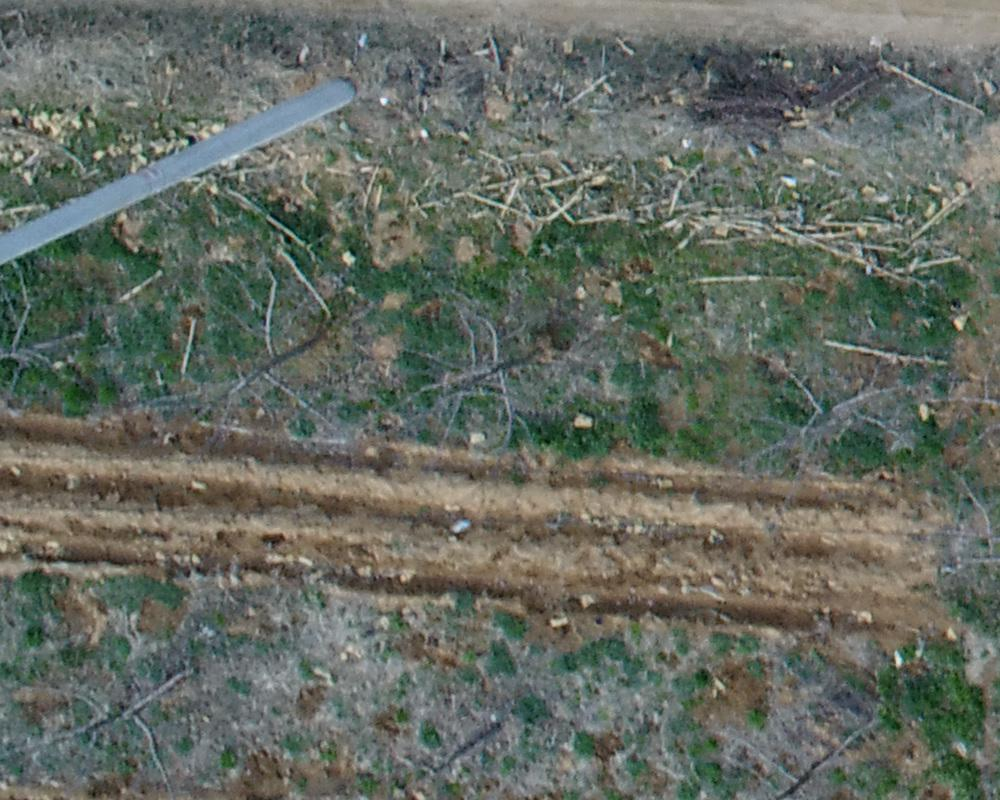apple: (126, 308, 341, 472), (27, 643, 220, 790), (728, 355, 922, 495), (380, 305, 554, 459)
